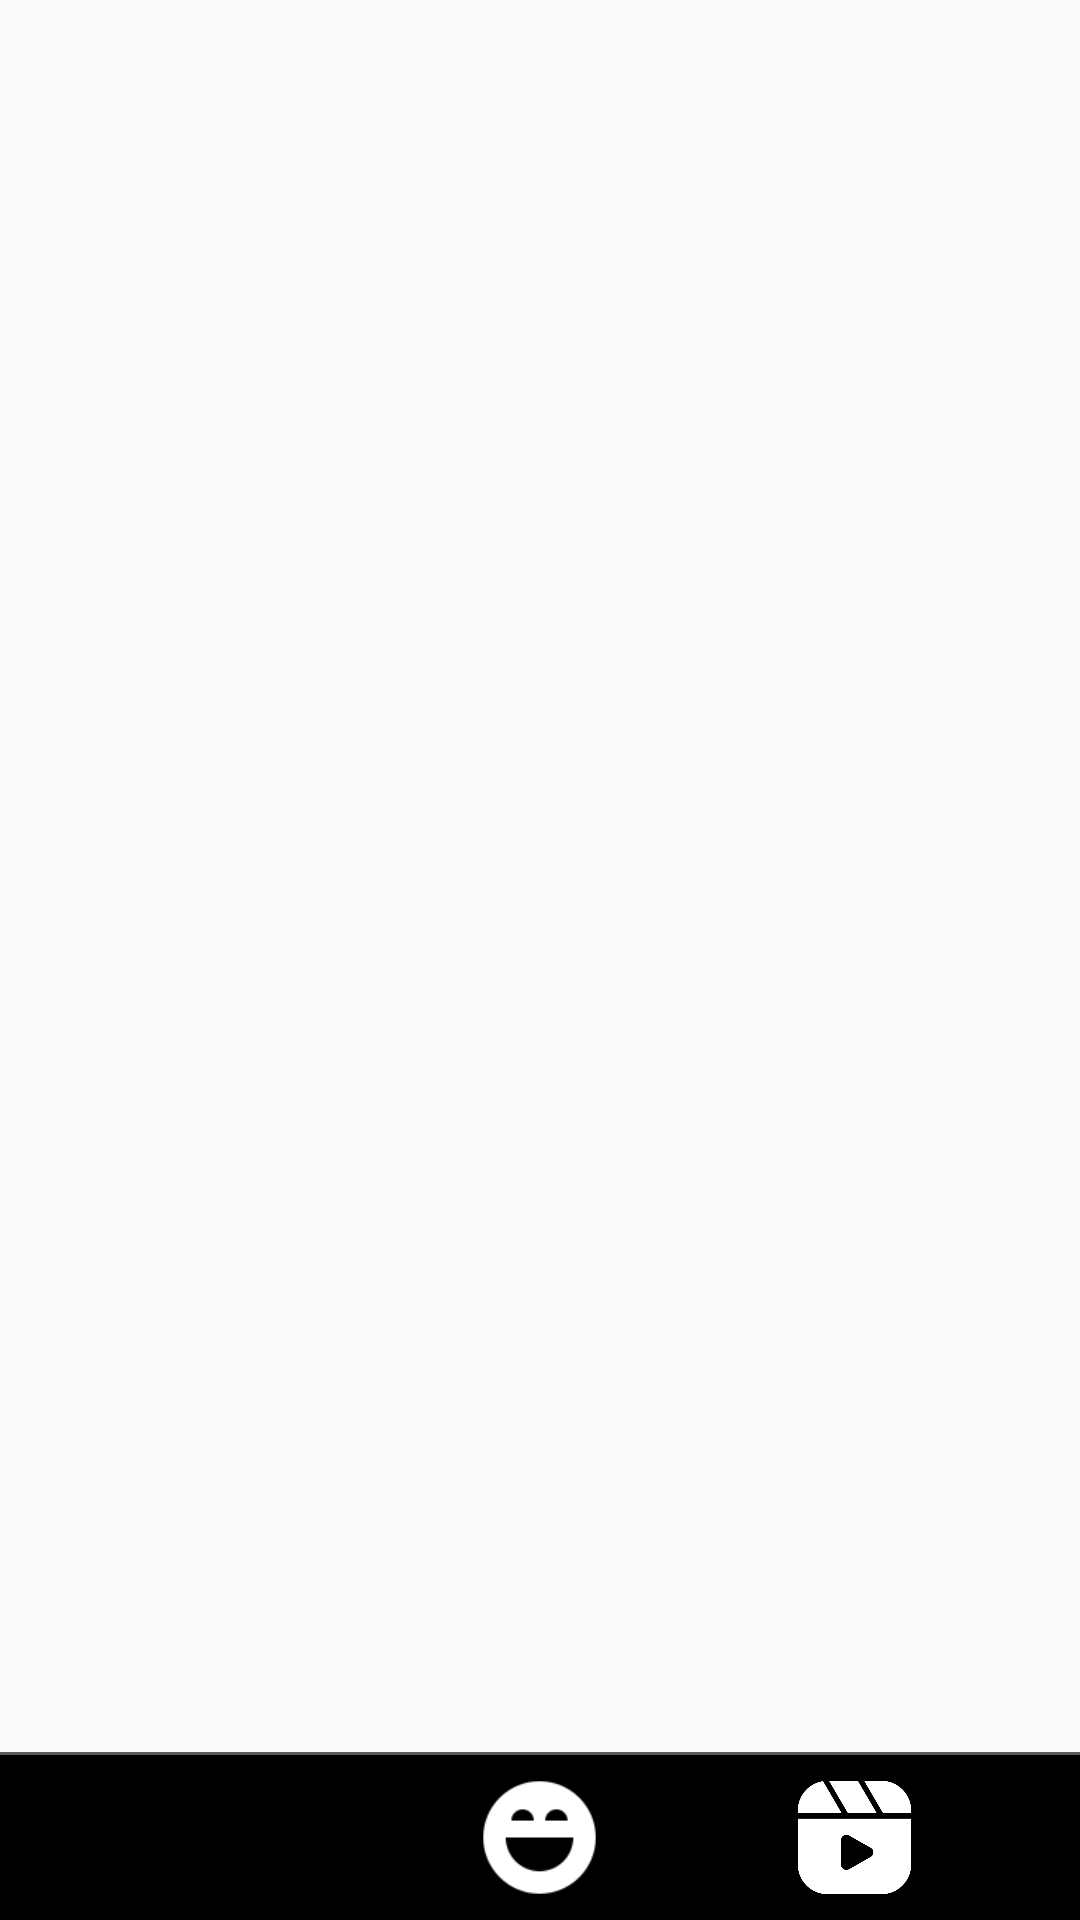

Named icons in this screenshot (1080x1920) and their bounding boxes, (x1, y1, x2, y2):
memesicon: (483, 1781, 596, 1894)
